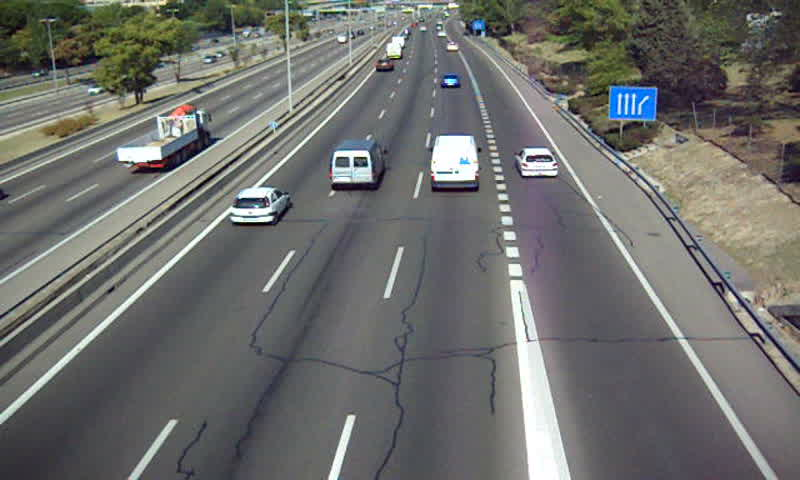car: (228, 188, 290, 227), (515, 146, 559, 177), (440, 72, 461, 88), (374, 59, 394, 72)
van: (331, 139, 387, 191), (430, 135, 480, 191)
